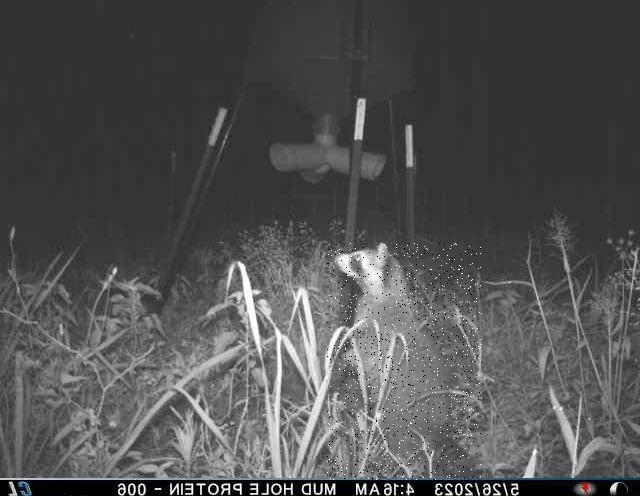Raccoon: (326, 243, 481, 480)
